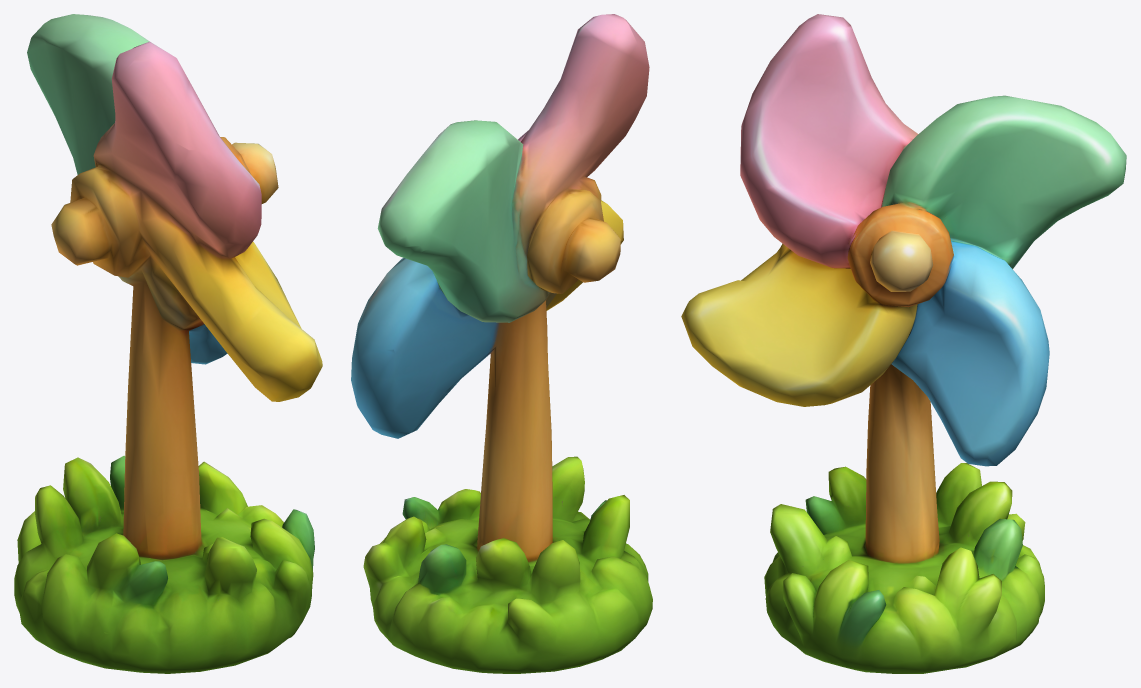
Rendered from Kit_M_Pinwheel_raw.glb.
3 renders of one model, left to right at view 1: azimuth 30°, elevation 25°; view 2: azimuth 150°, elevation 25°; view 3: azimuth 270°, elevation 25°, orthographic. The views are drawn at different scales.
Visible parts, largest first — view 1: tripo_node_ee6b9523-acb0-4120-b61b-f89ed60f5909; view 2: tripo_node_ee6b9523-acb0-4120-b61b-f89ed60f5909; view 3: tripo_node_ee6b9523-acb0-4120-b61b-f89ed60f5909.
Part boxes in pixels (x1,y1,x2,y2): tripo_node_ee6b9523-acb0-4120-b61b-f89ed60f5909: (14, 14, 322, 673); tripo_node_ee6b9523-acb0-4120-b61b-f89ed60f5909: (351, 14, 652, 673); tripo_node_ee6b9523-acb0-4120-b61b-f89ed60f5909: (681, 14, 1126, 673).
Bounding box in the file's own units: 0.4422 × 1 × 0.6956.
1 material, 1 textured.
